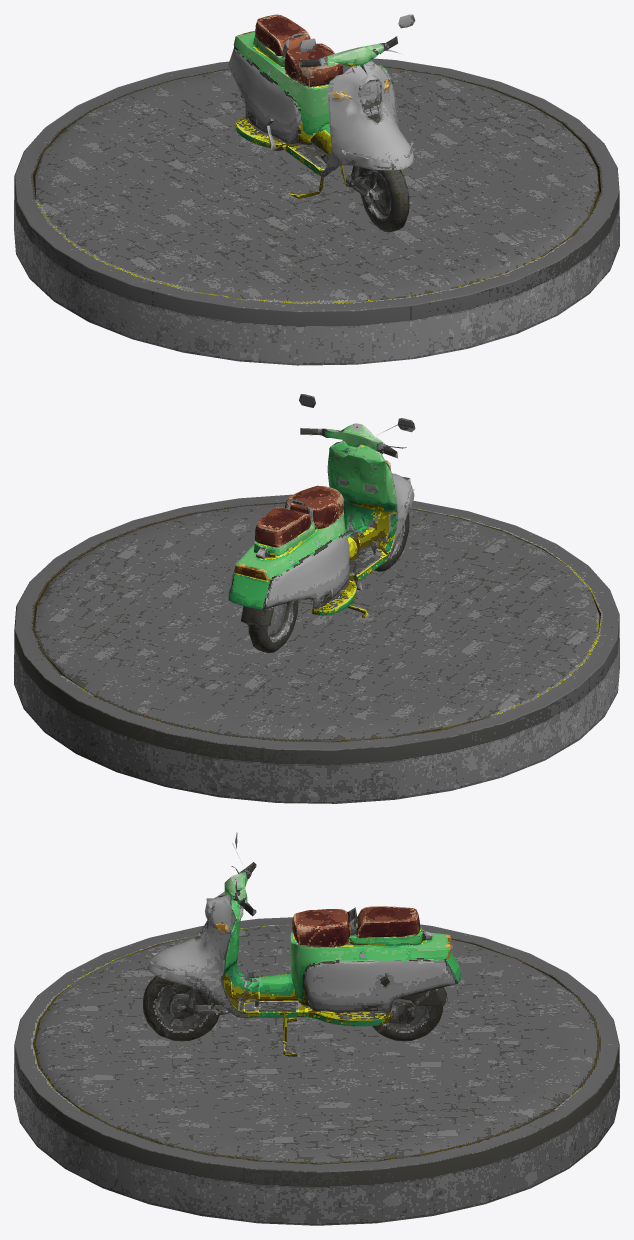
The model's file is scooter_rabbit.glb.
The picture shows the model from 3 angles, top to bottom: view 1: azimuth 30°, elevation 25°; view 2: azimuth 150°, elevation 25°; view 3: azimuth 270°, elevation 25°; orthographic projection.
Parts seen in each view (by area): view 1: mesh; view 2: mesh; view 3: mesh.
Part boxes in pixels (x1,y1,x2,y2): mesh: (14, 14, 619, 365); mesh: (14, 394, 619, 803); mesh: (14, 832, 619, 1225).
Size of the model in its own units: 2.3 by 0.9999 by 2.3.
Materials: 1 (1 with a texture image).
